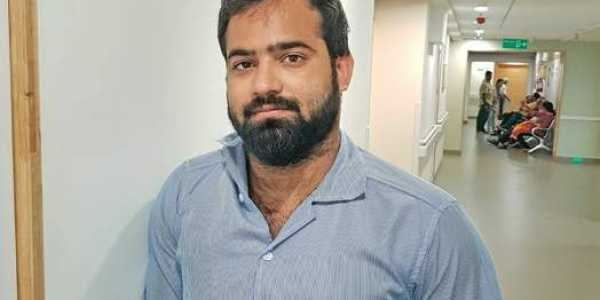stroke: (235, 29, 316, 142)
